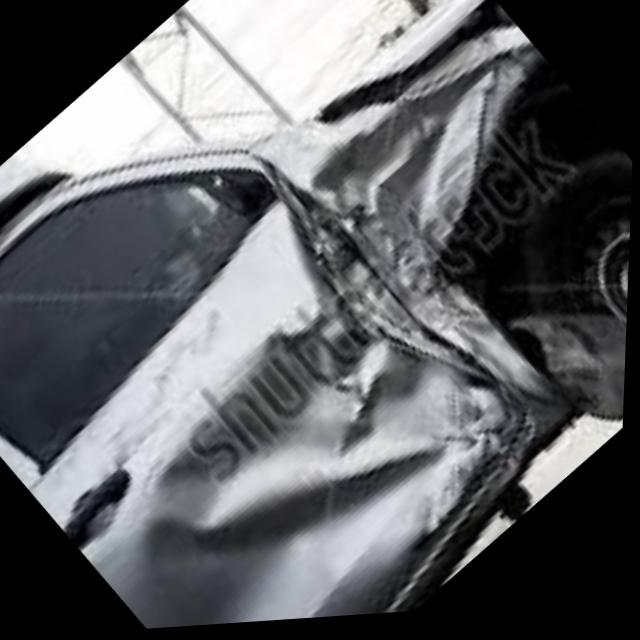dislocated part: (139, 0, 591, 584)
